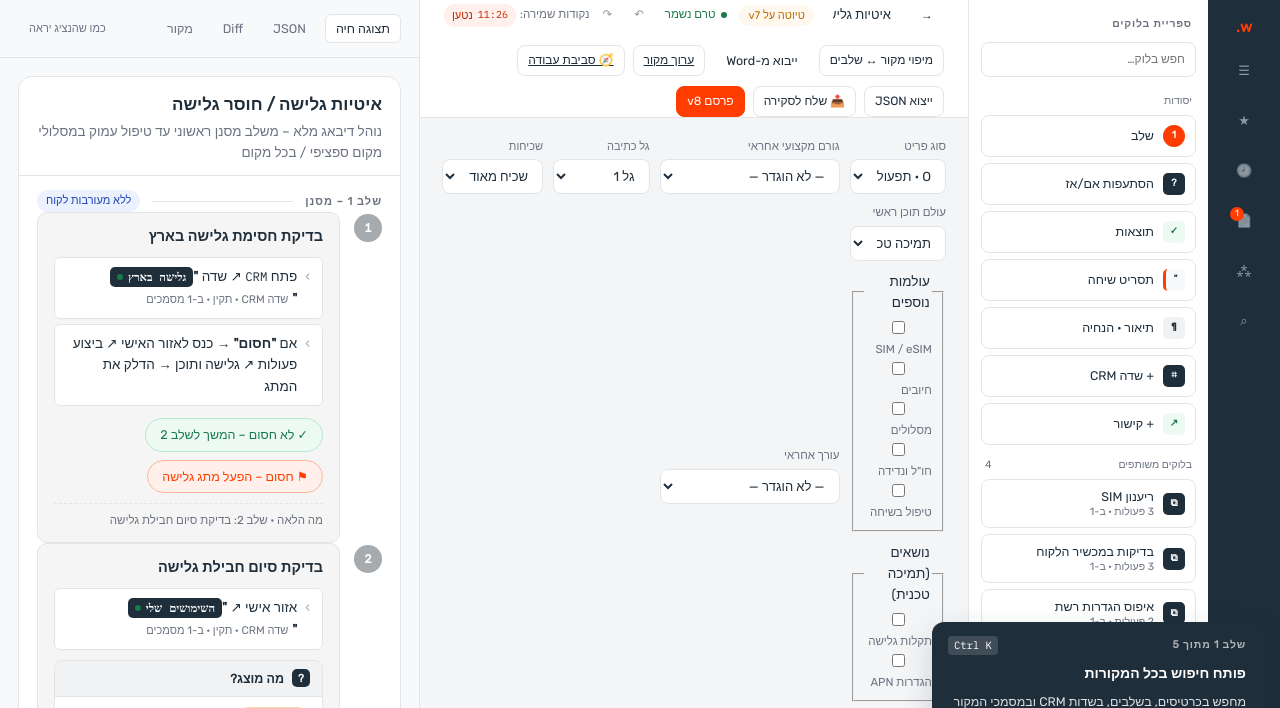
Test: conflict banner › surfaces a 412 with reload and diff choices instead of a status code
This screenshot has width=1280, height=708.
Expected: the field named "שם פריט הידע" holds "איטיות גלישה / חוסר גלישה", [826,0,898,30]
Click the button "פרסם v8" at (710, 101), box [676,86,745,117]
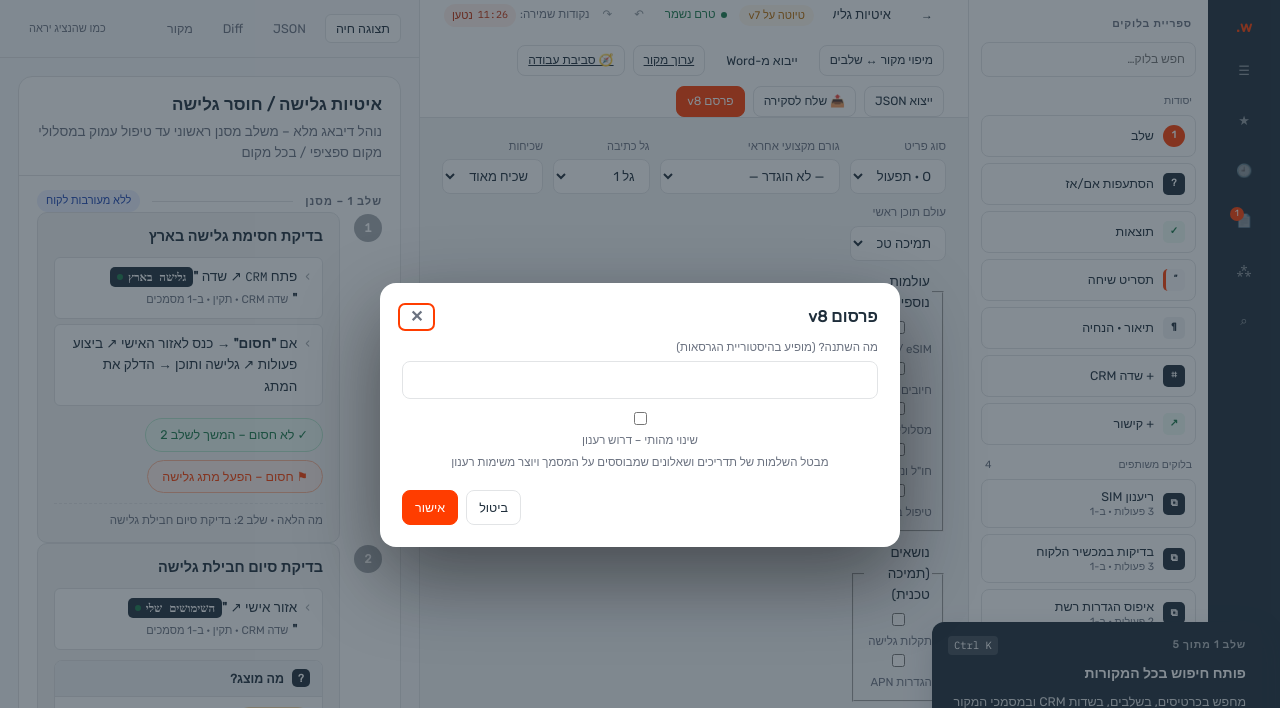
Click the button "אישור" at (430, 508), box [402,490,458,525]
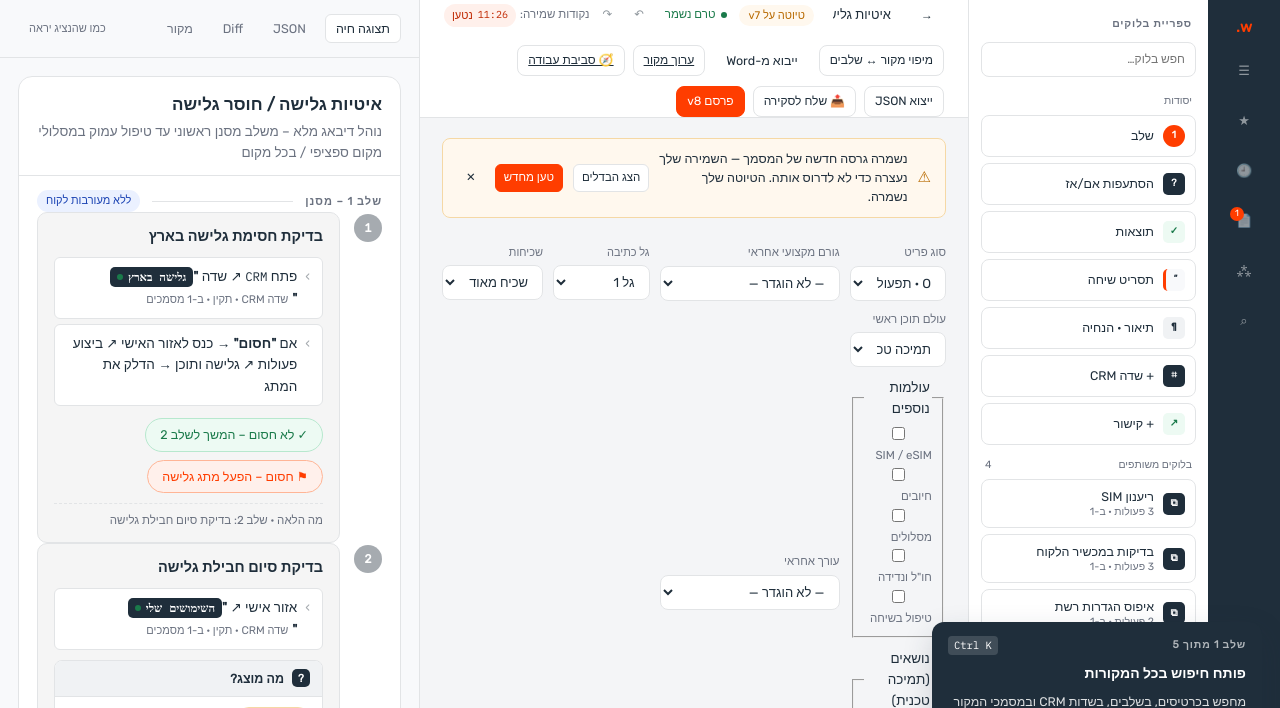
Result: the message shows "הטיוטה שלך נשמרה" at [659,151,908,204]
Result: the button "הצג הבדלים" is shown at [573,164,649,192]
Result: the button "טען מחדש" is shown at [495,164,563,192]
